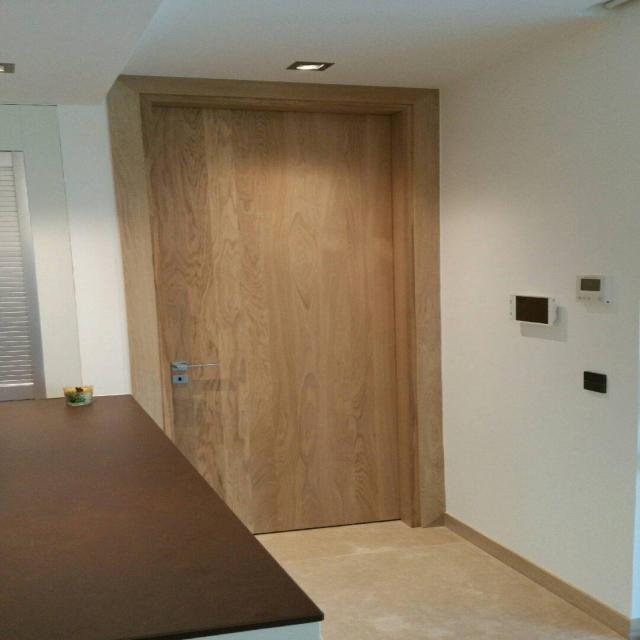Door: (93, 69, 450, 533)
